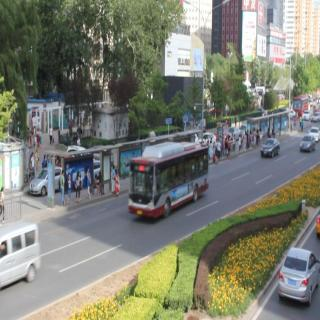BigCar: (130, 140, 210, 220)
Car: (278, 244, 320, 307), (0, 225, 41, 282), (260, 136, 280, 160), (300, 134, 315, 154)
